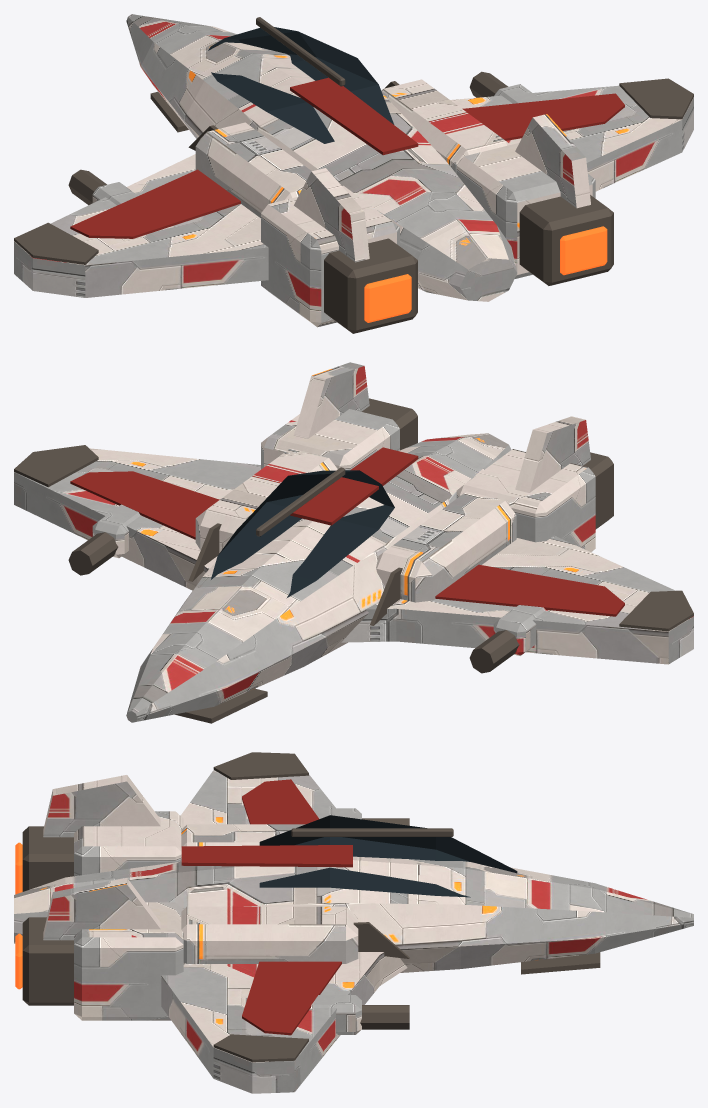
File: spitfire.glb
3 renders of one model, top to bottom at view 1: azimuth 30°, elevation 25°; view 2: azimuth 150°, elevation 25°; view 3: azimuth 270°, elevation 25°, orthographic. The views are drawn at different scales.
Parts seen in each view (by area): view 1: Spitfire_Armor, Spitfire_GunmetalParts, Spitfire_RedPanels, Spitfire_Canopy, Spitfire_EngineGlow; view 2: Spitfire_Armor, Spitfire_RedPanels, Spitfire_GunmetalParts, Spitfire_Canopy; view 3: Spitfire_Armor, Spitfire_GunmetalParts, Spitfire_RedPanels, Spitfire_Canopy, Spitfire_EngineGlow.
Boxes of the visible parts, x1,y1,x2,y2 form: Spitfire_Armor: (14, 14, 693, 327); Spitfire_GunmetalParts: (14, 17, 693, 333); Spitfire_RedPanels: (70, 77, 624, 238); Spitfire_Canopy: (208, 27, 394, 143); Spitfire_EngineGlow: (364, 226, 607, 322); Spitfire_Armor: (14, 362, 693, 722); Spitfire_RedPanels: (70, 447, 624, 616); Spitfire_GunmetalParts: (14, 398, 693, 723); Spitfire_Canopy: (211, 470, 394, 598); Spitfire_Armor: (14, 770, 693, 1093); Spitfire_GunmetalParts: (22, 752, 600, 1062); Spitfire_RedPanels: (181, 779, 352, 1035); Spitfire_Canopy: (259, 815, 517, 897); Spitfire_EngineGlow: (15, 842, 22, 989).
Size of the model in its own units: 4.12 by 0.91 by 3.85.
Materials: 5 (1 with a texture image).
